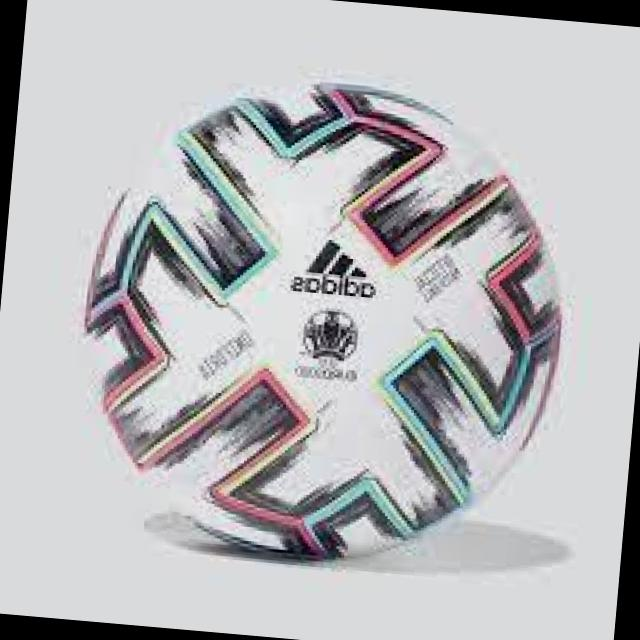Soccer Ball: (62, 57, 581, 586)
